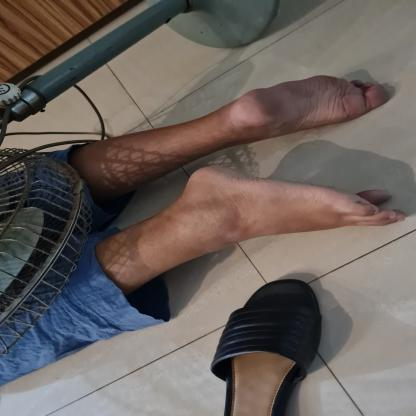leg: (72, 67, 394, 199), (103, 156, 416, 285)
